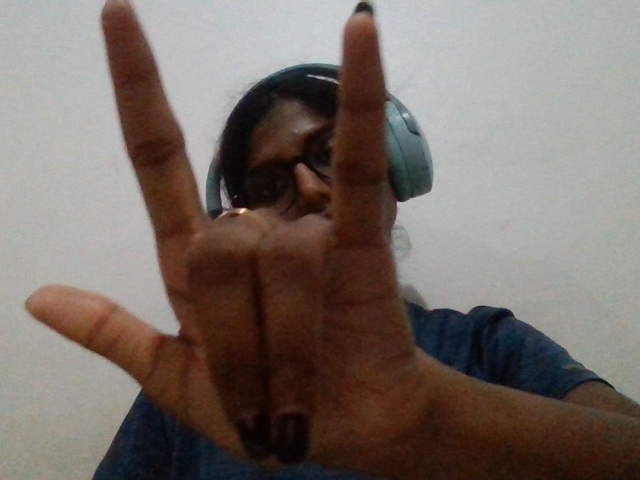I Love You: (7, 3, 577, 480)
